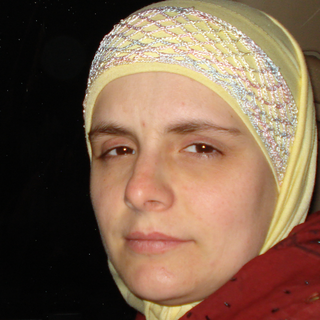eye: (175, 135, 229, 163), (93, 138, 145, 164)
